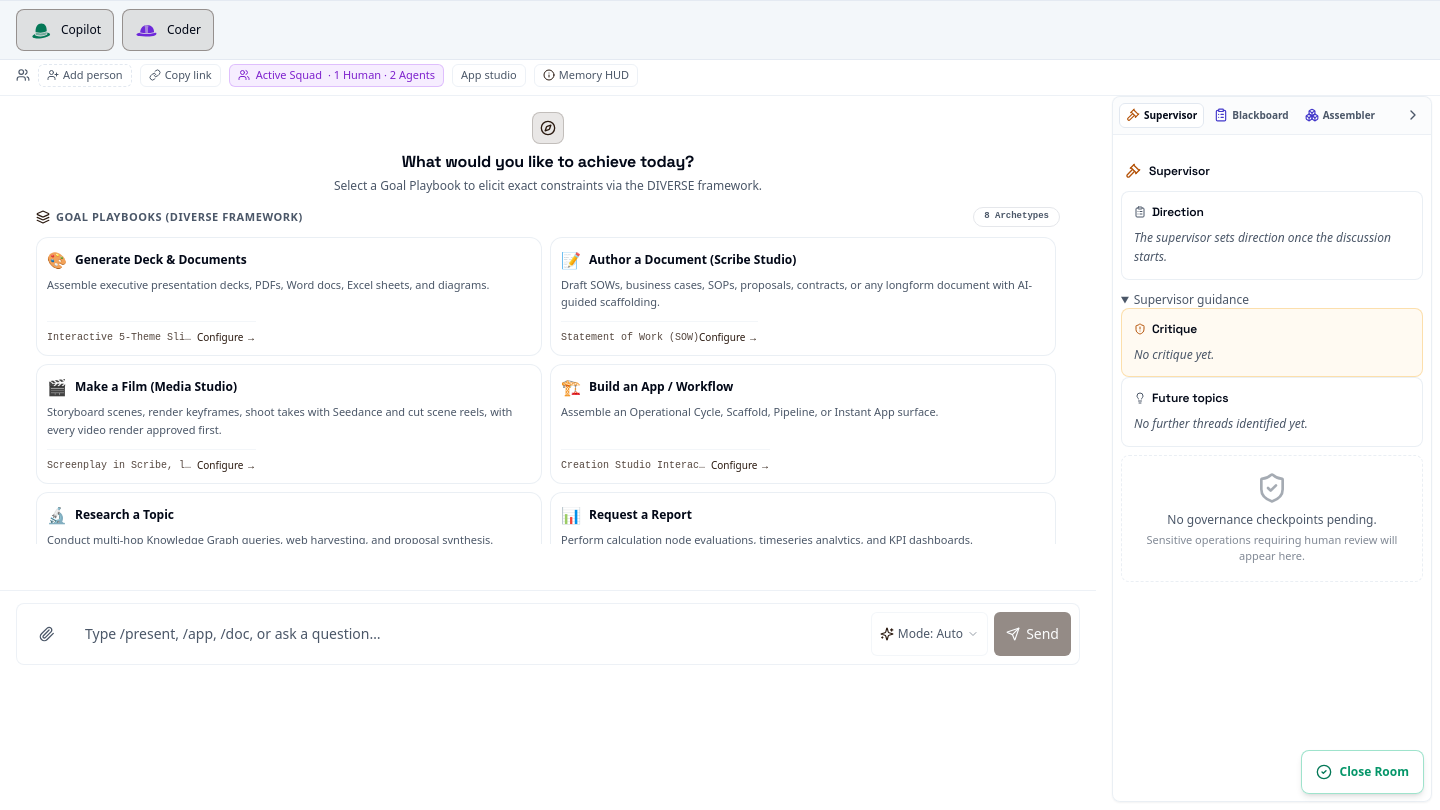
Crew composer @-mention intellisense › shows matching agents after typing @ and three letters with full agent pill attributes
Type "Hey @Cod" into the text box with test id "crew-composer" at coordinates (470, 634), box x1=77 y1=612 x2=863 y2=656
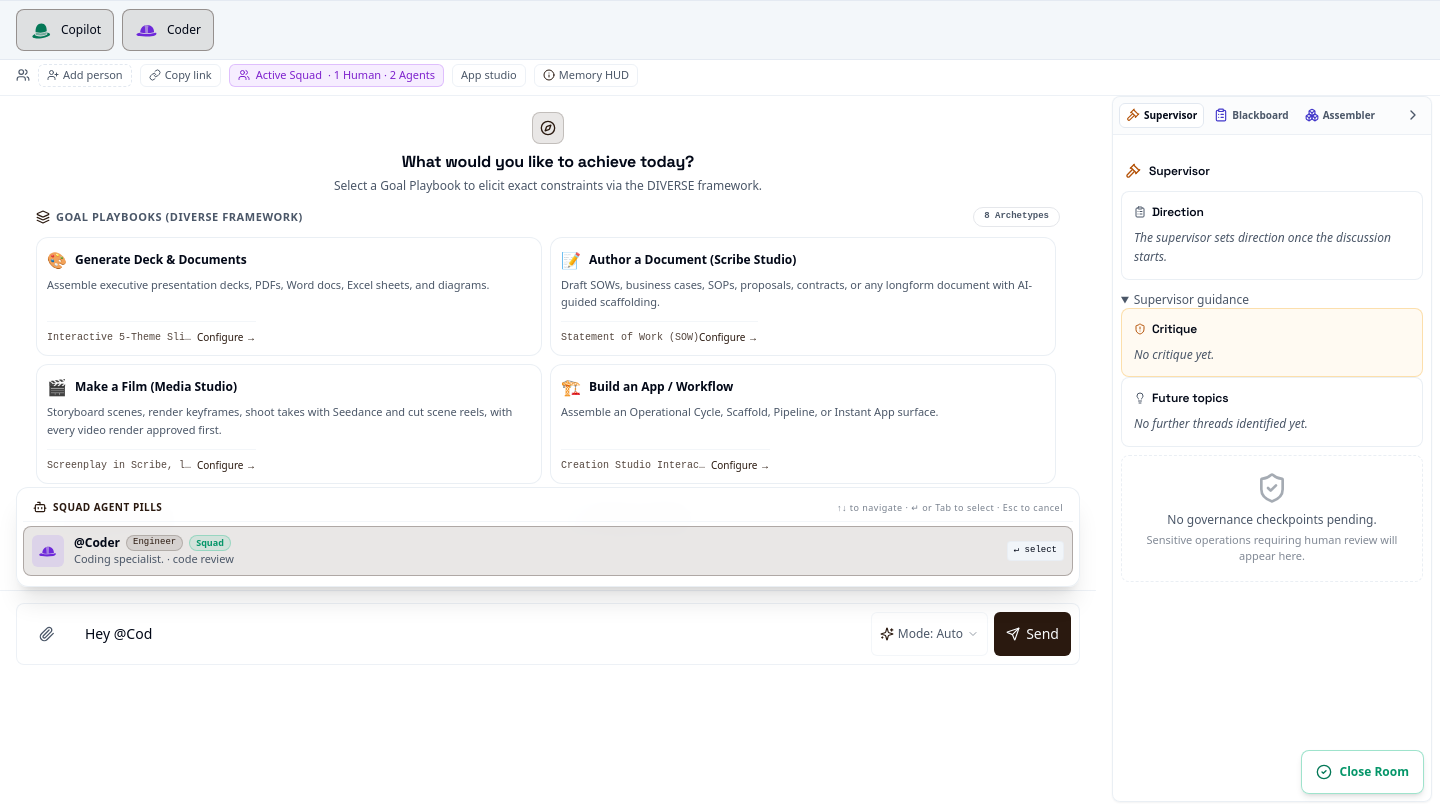
Expected: the element with test id "crew-mention-popover" is shown, x1=16 y1=487 x2=1080 y2=587
Expected: the option with test id "crew-mention-option-12" shows "@Coder", x1=23 y1=526 x2=1073 y2=576
Expected: the option with test id "crew-mention-option-12" shows "Engineer", x1=23 y1=526 x2=1073 y2=576
